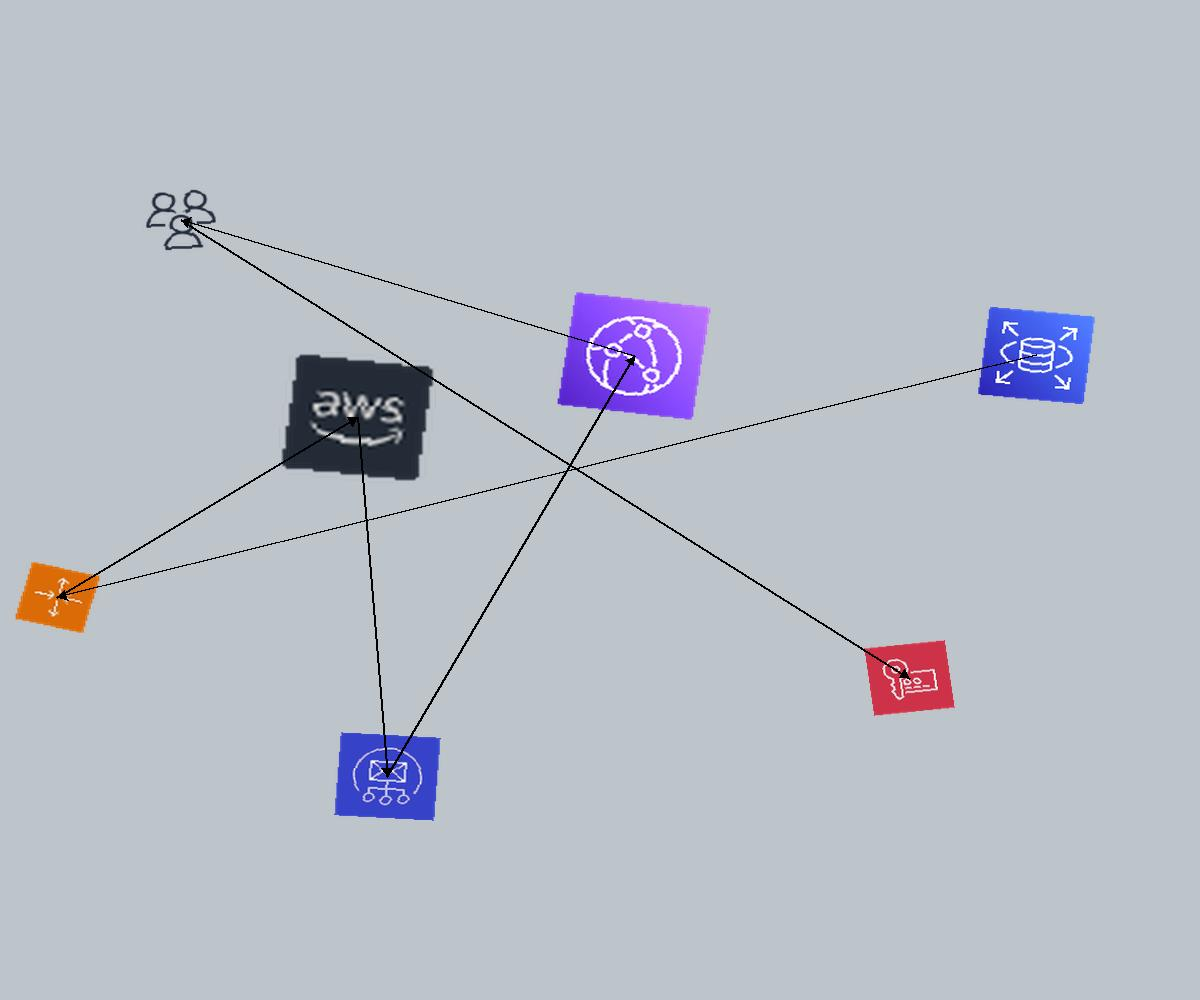AWS-Cloud-logo: (279, 352, 436, 483)
AWS-CloudFront: (556, 291, 712, 421)
AWS-Key-Management-Service: (864, 640, 955, 716)
AWS-RDS: (977, 306, 1096, 405)
AWS-Res_Users: (140, 186, 222, 254)
AWS-Scaling-group: (14, 561, 101, 634)
AWS-Simple-Email-Service: (334, 732, 441, 821)
